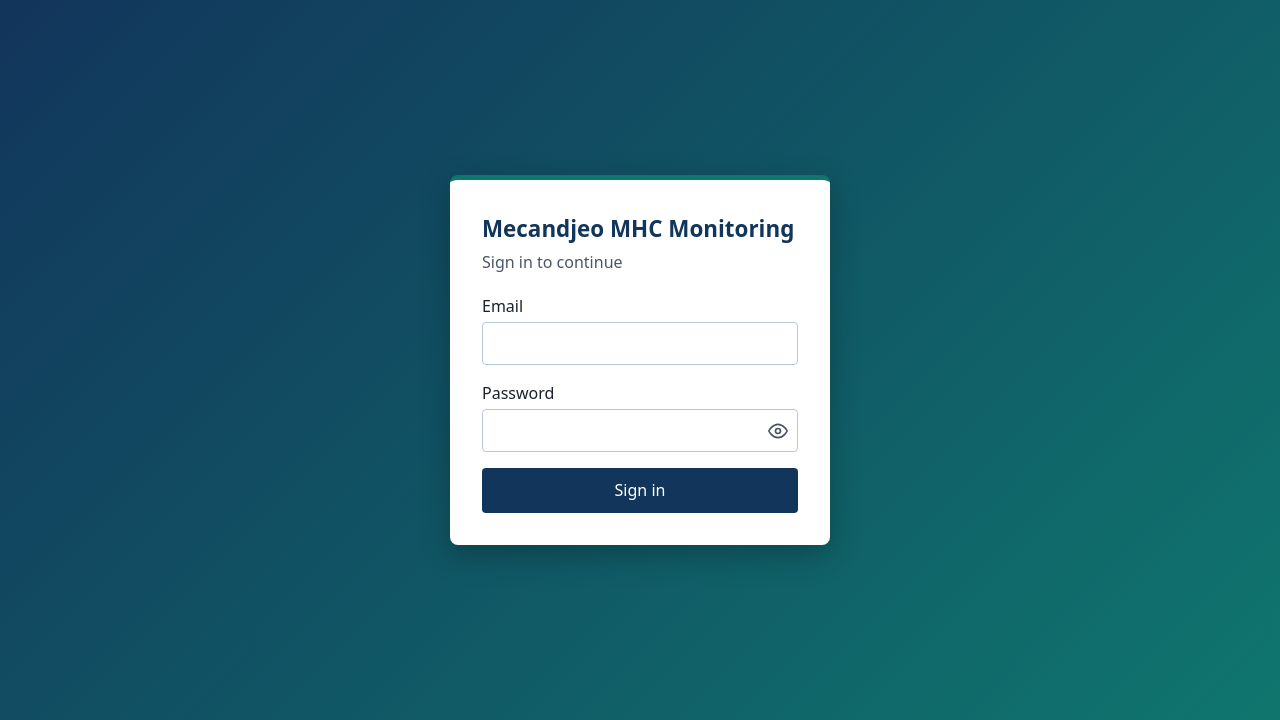
Test case: LoginPage › shows a helpful message when the API cannot be reached
Type "operator1@example.com" into the field labelled "Email" at x=640, y=344, box [482,322,798,365]
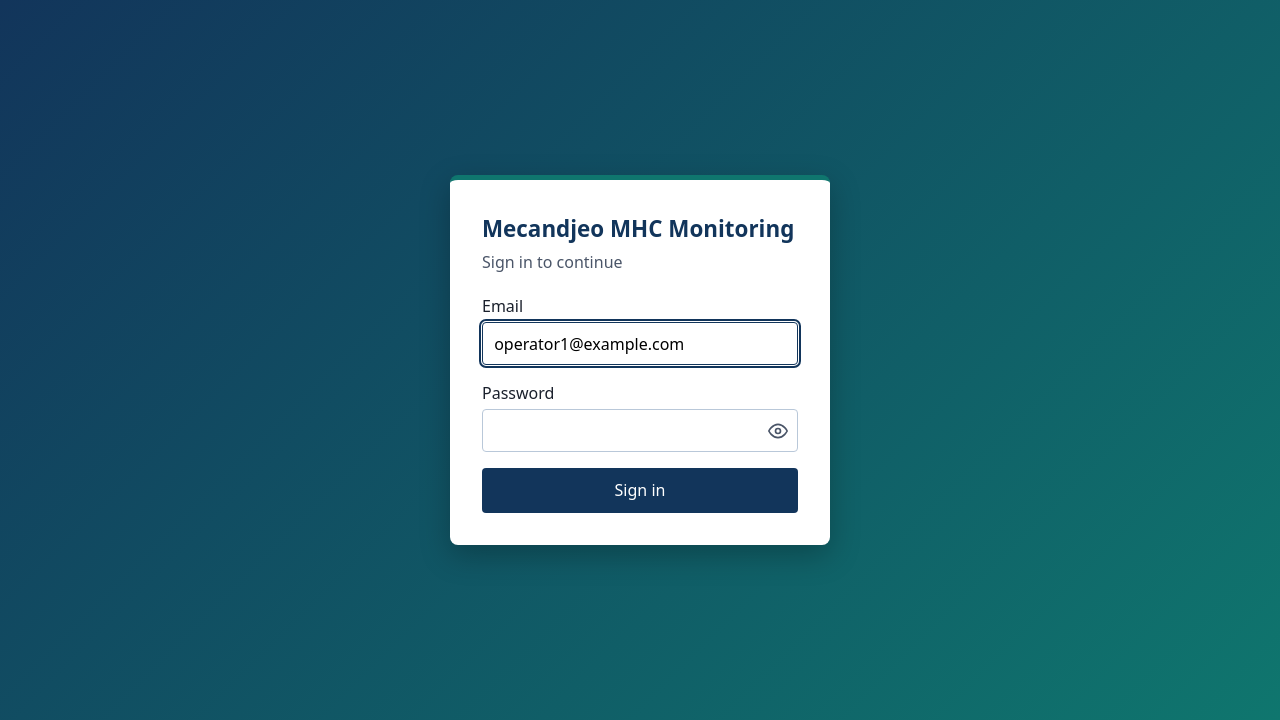
Type "Securepass123!" into the password field labelled "Password" at x=640, y=431, box [482,409,798,452]
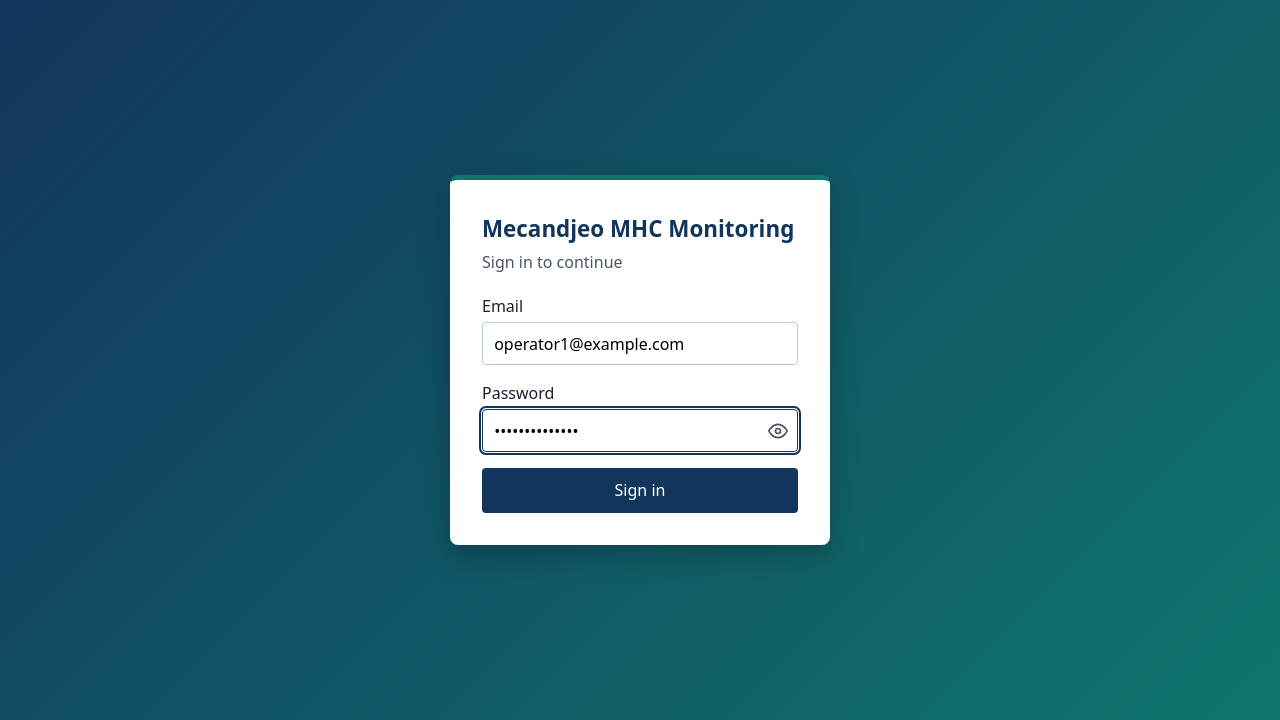
Click the button "Sign in" at x=640, y=490, box [482,468,798,513]
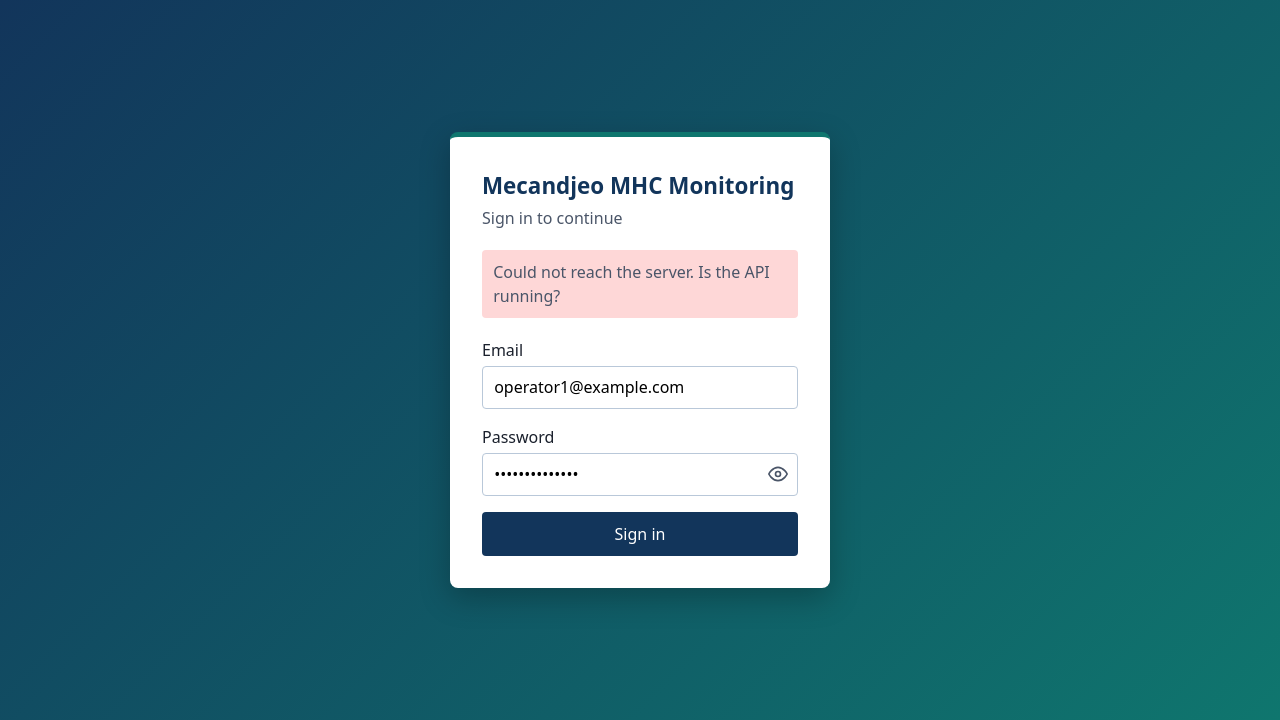
Expected: the message reads "Could not reach the server. Is the API running?", [493,261,770,307]
